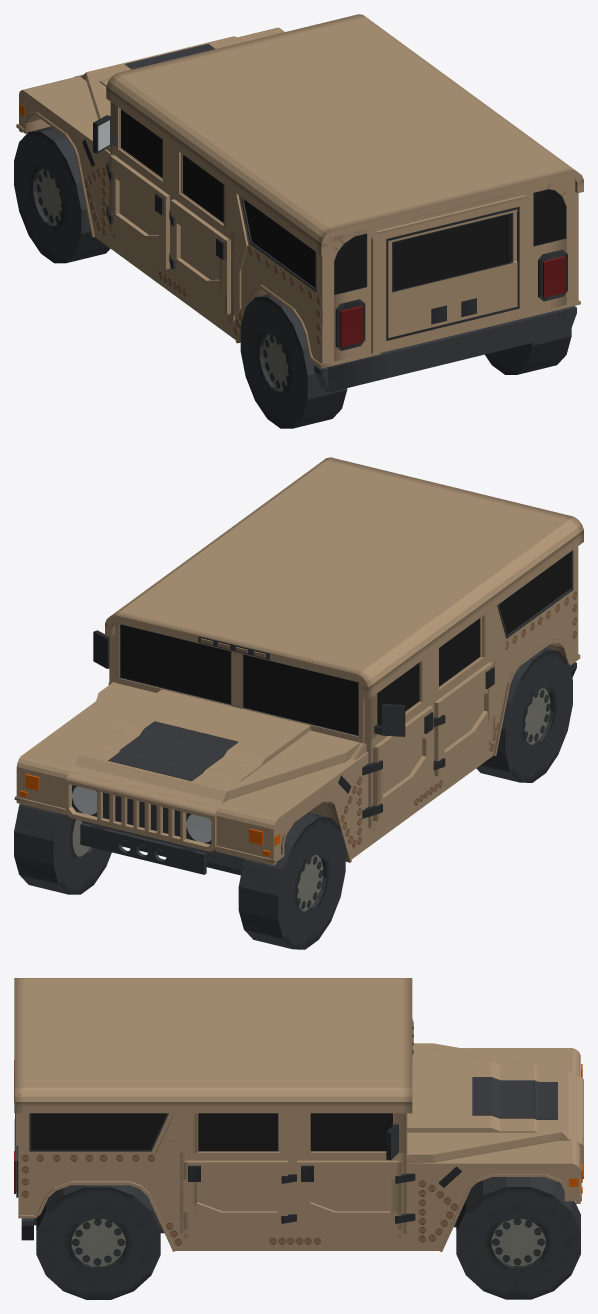
File: Hummer.glb
3 renders of one model, top to bottom at view 1: azimuth 30°, elevation 25°; view 2: azimuth 150°, elevation 25°; view 3: azimuth 270°, elevation 25°, orthographic. The views are drawn at different scales.
Parts seen in each view (by area): view 1: hummer_h1_3; view 2: hummer_h1_3; view 3: hummer_h1_3.
Boxes of the visible parts, x1,y1,x2,y2 form: hummer_h1_3: [14, 14, 583, 428]; hummer_h1_3: [14, 457, 583, 949]; hummer_h1_3: [14, 978, 583, 1299].
Size of the model in its own units: 3.41 by 2.36 by 5.86.
Materials: 1 (1 with a texture image).
